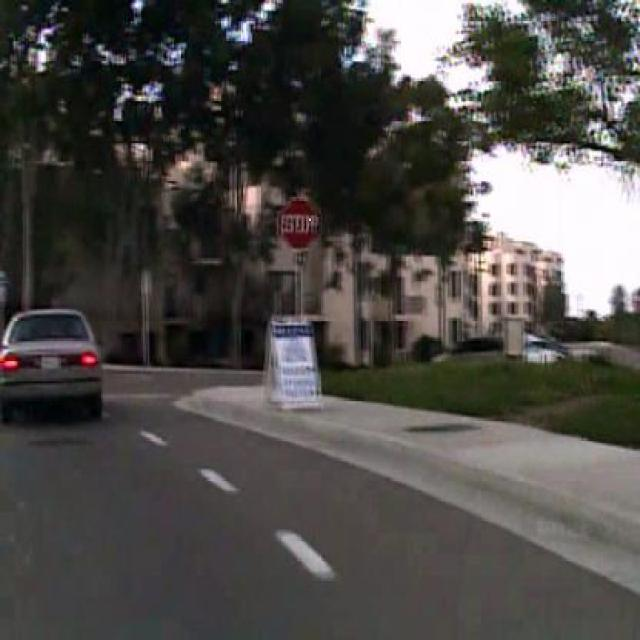stop: (278, 194, 318, 250)
